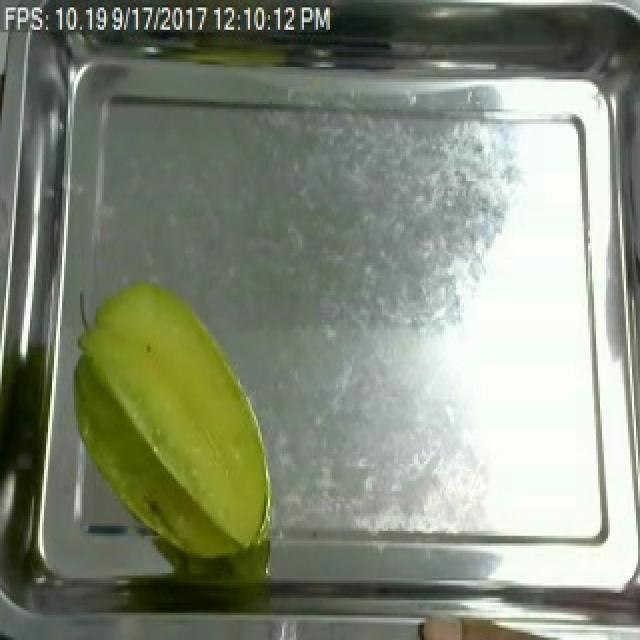fruit: (64, 268, 280, 570)
